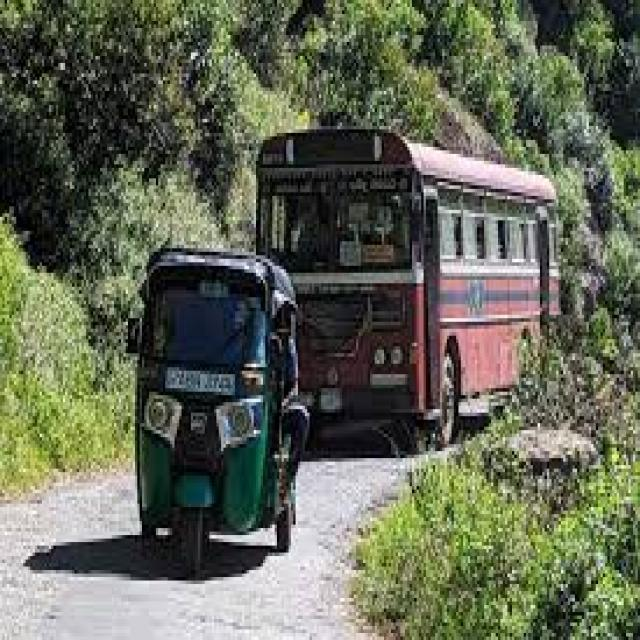bus: (347, 90, 585, 435)
tuktuk: (120, 236, 330, 579)
